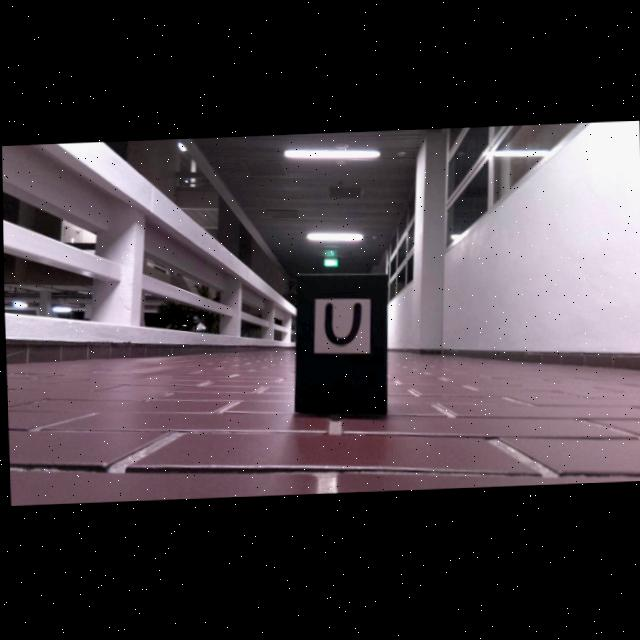U: (323, 304, 360, 347)
